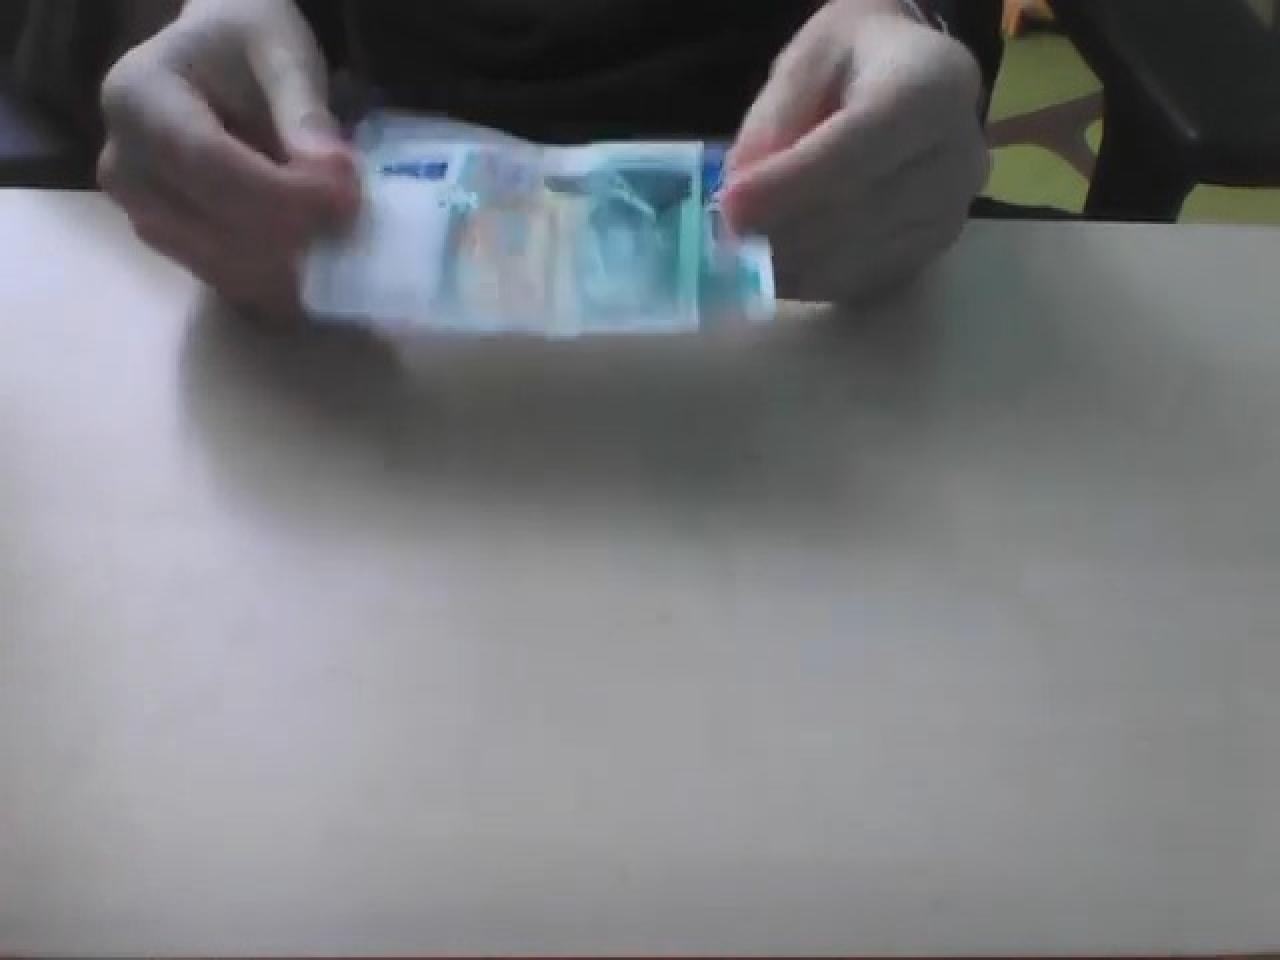100leva: (294, 104, 778, 344)
